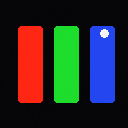0 point: (100, 29, 108, 37)
